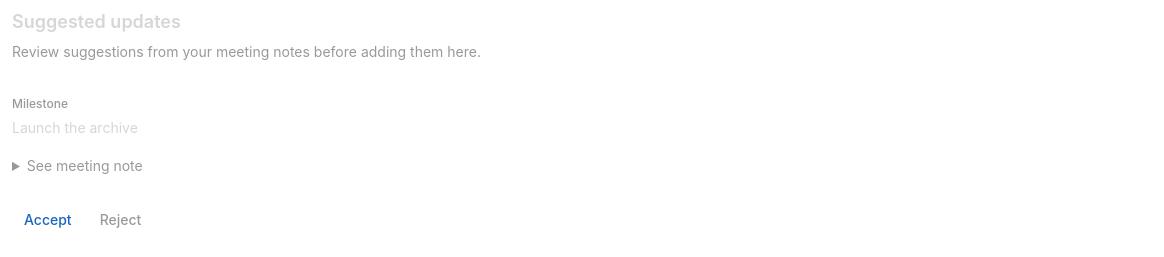
Test: rejects one row and refreshes the canonical read and proposal list
The image size is (1164, 257).
Step 1. Click the button "Reject" → (120, 220), box [88, 200, 153, 240]
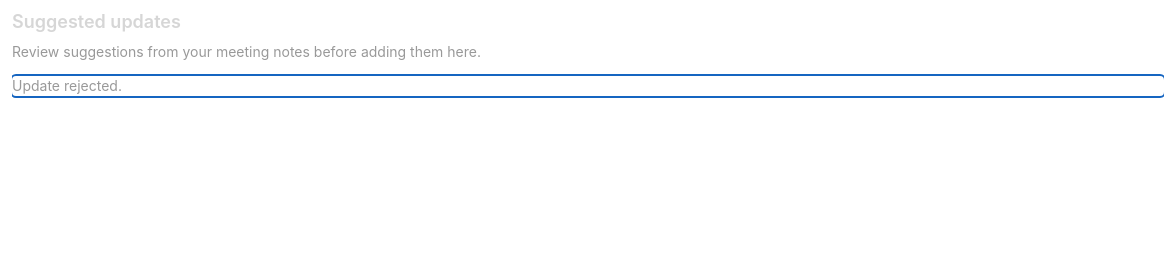
Check: the text "Update rejected" is shown, box [12, 77, 122, 94]
